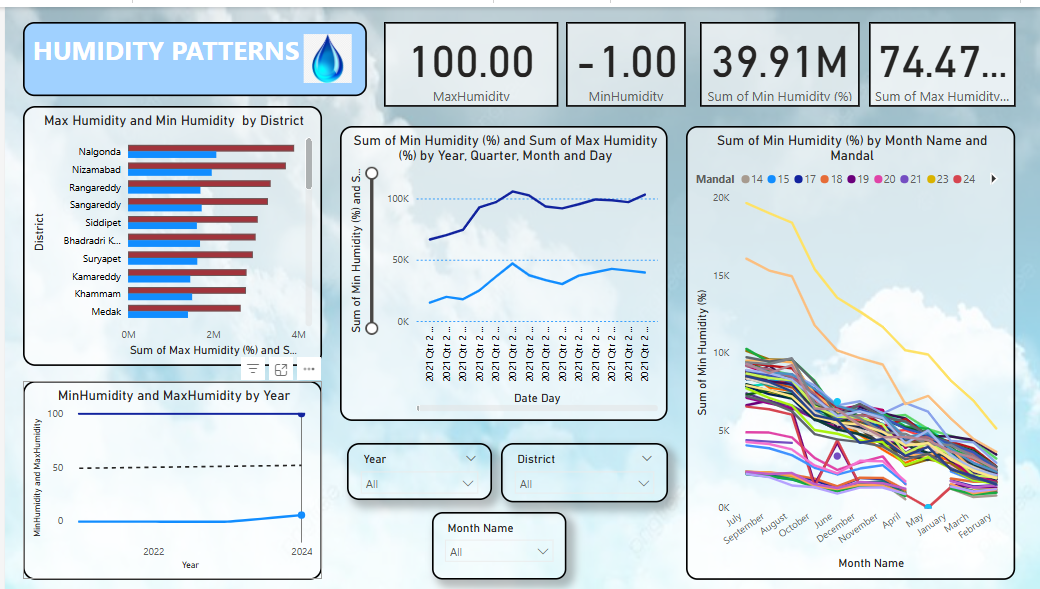

What the dashboard file says about the page in this screenshot:
{"tool":"powerbi","page":{"name":"Humidity Patterns","canvas":[1280,720],"ordinal":2},"visuals":[{"type":"slicer","fields":{"Values":["Weather_Data.Year"]},"box":[420.2,534.6,178.2,69.8],"z":0},{"type":"slicer","fields":{"Values":["Weather_Data.District"]},"box":[608.8,534.6,204.9,72.8],"z":1000},{"type":"slicer","fields":{"Values":["Weather_Data.Month Name"]},"box":[524.2,619.2,164.8,83.2],"z":3000},{"type":"clusteredBarChart","title":"Max Humidity and Min Humidity  by District","fields":{"Category":["Weather_Data.District"],"Y":["Sum(Weather_Data.Max Humidity (%))","Sum(Weather_Data.Min Humidity (%))"]},"box":[22.3,121.8,366.8,319.3],"z":4000},{"type":"lineChart","fields":{"Category":["Weather_Data.Year"],"Y":["Weather_Data.MinHumidity","Weather_Data.MaxHumidity"]},"box":[22.3,458.8,366.8,243.5],"z":5000},{"type":"lineChart","fields":{"Category":["Weather_Data.Month Name"],"Y":["Sum(Weather_Data.Min Humidity (%))"],"Series":["Weather_Data.Mandal"]},"box":[836,145.5,403.9,556.8],"z":6000},{"type":"lineChart","fields":{"Category":["Weather_Data.Date.Variation.Date Hierarchy.Year","Weather_Data.Date.Variation.Date Hierarchy.Quarter","Weather_Data.Date.Variation.Date Hierarchy.Month","Weather_Data.Date.Variation.Date Hierarchy.Day"],"Y":["Sum(Weather_Data.Min Humidity (%))","Sum(Weather_Data.Max Humidity (%))"]},"box":[411.3,145.5,402.4,362.3],"z":7000},{"type":"card","fields":{"Values":["Weather_Data.MinHumidity"]},"box":[689,17.8,147,103.9],"z":8000},{"type":"card","fields":{"Values":["Weather_Data.MaxHumidity"]},"box":[464.8,17.8,213.8,103.9],"z":9000},{"type":"card","fields":{"Values":["Sum(Weather_Data.Min Humidity (%))"]},"box":[852.3,17.8,196,103.9],"z":10000},{"type":"card","fields":{"Values":["Sum(Weather_Data.Max Humidity (%))"]},"box":[1060.2,17.8,179.7,103.9],"z":11000},{"type":"textbox","box":[22.3,17.8,421.7,90.6],"z":12000},{"type":"image","box":[349,28.2,95,69.8],"z":13000}]}

Visuals, with their boxes in screenshot pixels (x1, y1, x2, y2), scaled from the page's 1280x720 canvas onto the 1040x589 screenshot:
slicer - Weather_Data.Year: 341:437:486:494
slicer - Weather_Data.District: 495:437:661:497
slicer - Weather_Data.Month Name: 426:507:560:575
"Max Humidity and Min Humidity  by District" clusteredBarChart: 18:100:316:361
lineChart - Weather_Data.Year x Weather_Data.MinHumidity: 18:375:316:575
lineChart - Weather_Data.Month Name x Sum(Weather_Data.Min Humidity (%)): 679:119:1007:575
lineChart - Weather_Data.Date.Variation.Date Hierarchy.Year x Weather_Data.Date.Variation.Date Hierarchy.Quarter: 334:119:661:415
card - Weather_Data.MinHumidity: 560:15:679:100
card - Weather_Data.MaxHumidity: 378:15:551:100
card - Sum(Weather_Data.Min Humidity (%)): 692:15:852:100
card - Sum(Weather_Data.Max Humidity (%)): 861:15:1007:100
textbox: 18:15:361:89
image: 284:23:361:80
